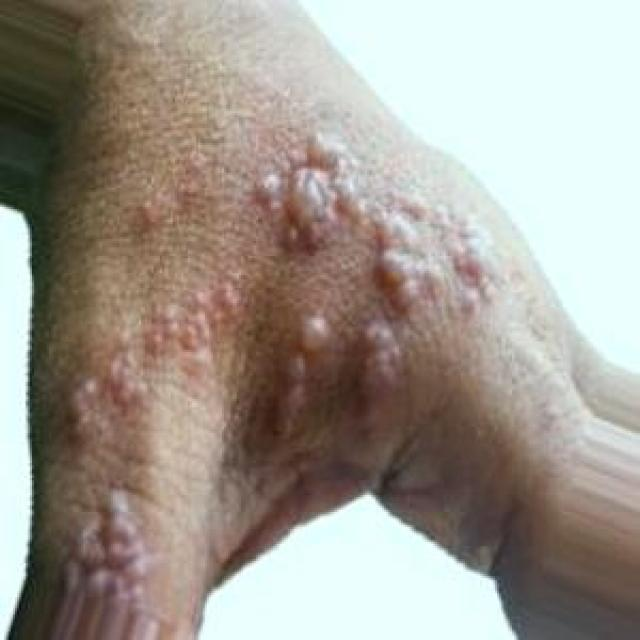Shingles: (263, 134, 502, 316), (56, 273, 246, 445), (63, 483, 157, 602), (274, 306, 324, 446), (355, 314, 400, 422)
